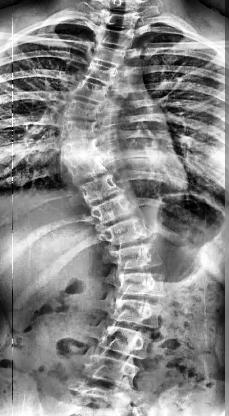Vertebrae: (94, 325, 156, 359), (80, 351, 140, 385), (104, 296, 160, 326), (114, 268, 166, 296), (108, 244, 160, 272), (79, 174, 119, 206), (102, 220, 146, 248), (93, 197, 135, 225), (60, 139, 104, 161), (68, 156, 108, 180), (90, 42, 126, 68), (63, 101, 105, 123), (72, 80, 110, 104), (97, 29, 135, 50), (84, 61, 116, 84), (64, 121, 98, 139)
